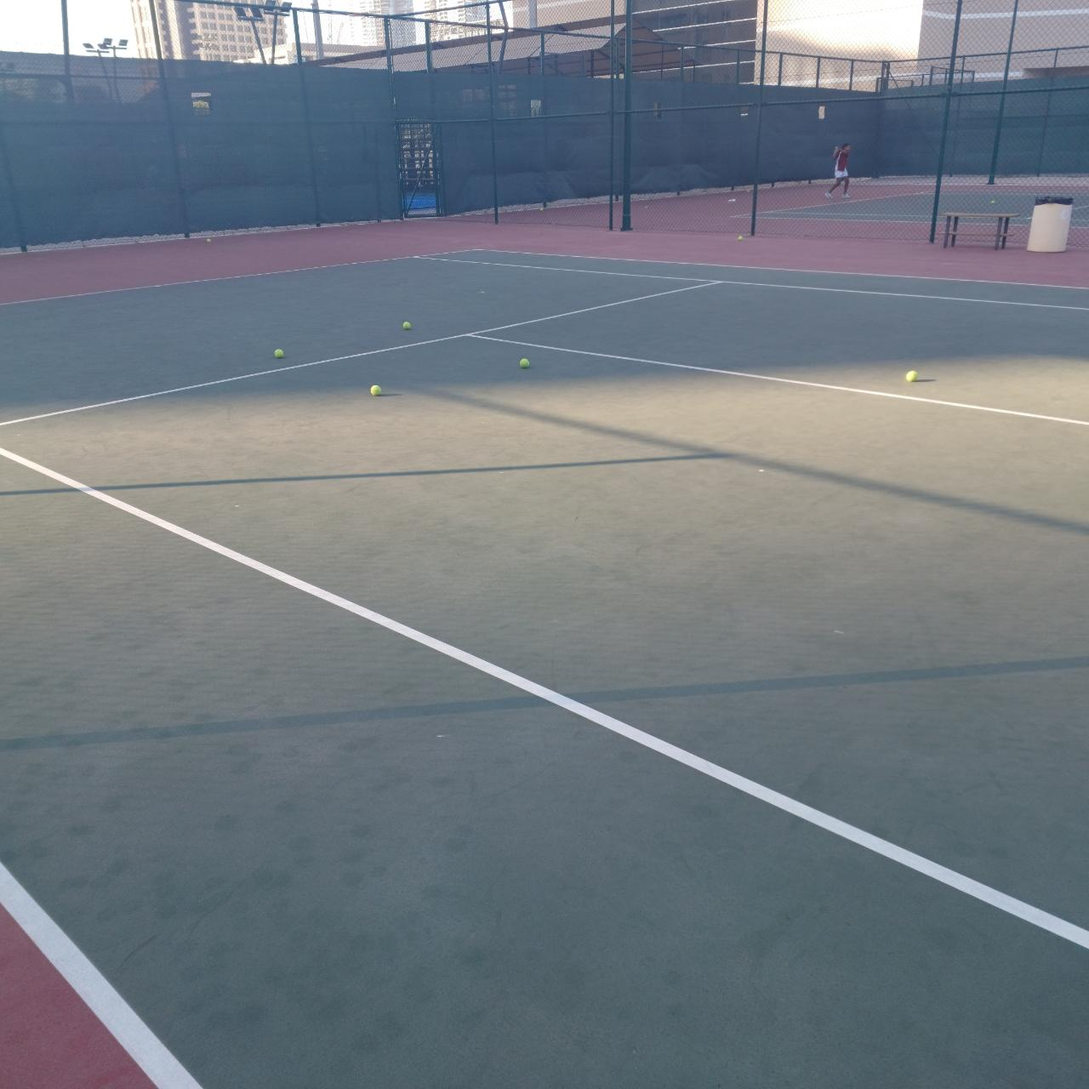tennis-ball: (904, 368, 918, 382), (368, 382, 381, 396), (517, 356, 530, 368), (272, 346, 284, 358), (400, 319, 412, 330), (737, 235, 743, 241)
